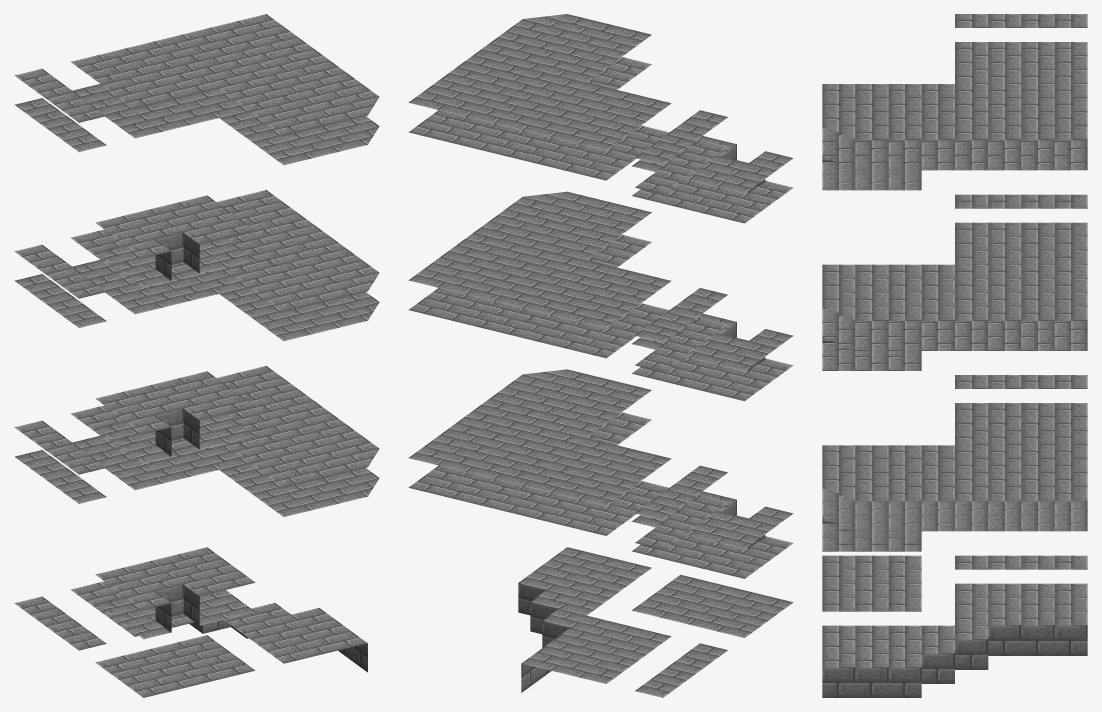
Rendered from Stone_Bricks_Chunk_22_9.fbx.
3 views of the same model, side by side, from view 1: azimuth 30°, elevation 25°; view 2: azimuth 150°, elevation 25°; view 3: azimuth 270°, elevation 25° (orthographic). The views are drawn at different scales.
Visible parts, largest first — view 1: Stone_Bricks_Chunk_22_9; view 2: Stone_Bricks_Chunk_22_9; view 3: Stone_Bricks_Chunk_22_9.
Boxes of the visible parts, x1,y1,x2,y2 form: Stone_Bricks_Chunk_22_9: (14,14,379,697); Stone_Bricks_Chunk_22_9: (408,14,793,697); Stone_Bricks_Chunk_22_9: (822,14,1087,697).
Size of the model in its own units: 900 by 1900 by 800.
Materials: 1 (1 with a texture image).
